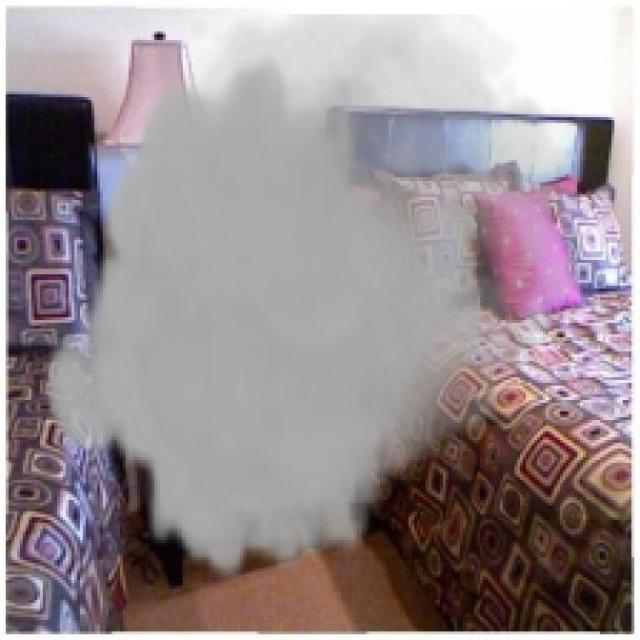Smoke: (40, 14, 603, 583)
